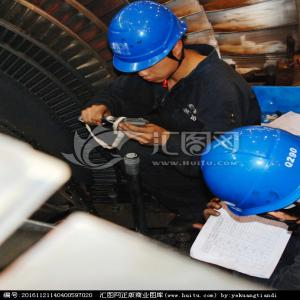blue: (194, 123, 300, 232), (107, 4, 186, 84)
